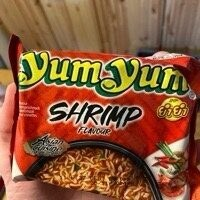Shrimp Flavour: (10, 10, 190, 190)
